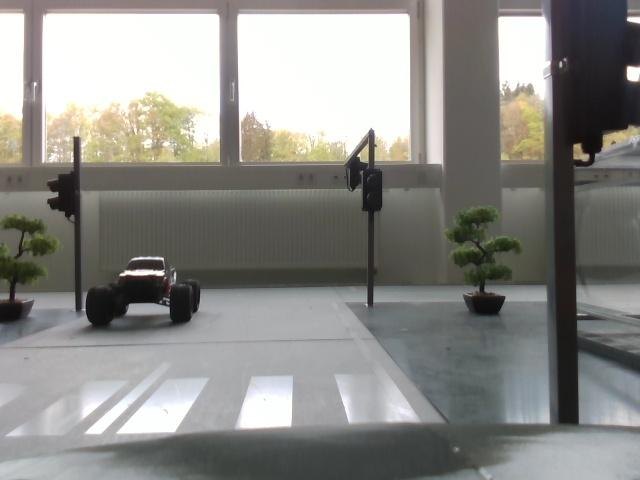car: (84, 252, 207, 335)
potted plant: (450, 212, 515, 319), (1, 208, 53, 334)
traffic light: (559, 1, 640, 143)
